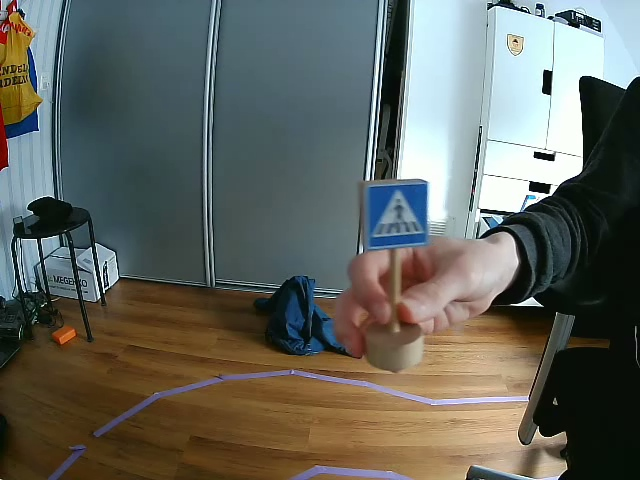zebrapad: (366, 181, 425, 252)
